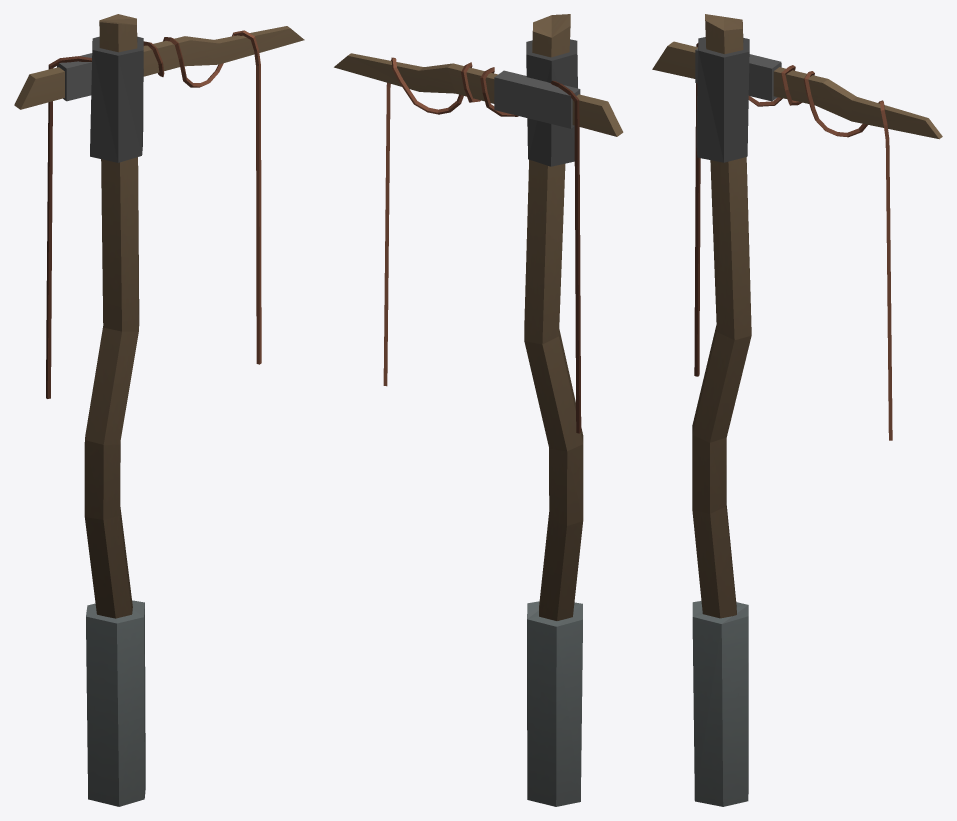
The model's file is ZLPC_Prop_D_02.FBX.
3 renders of one model, left to right at view 1: azimuth 30°, elevation 25°; view 2: azimuth 150°, elevation 25°; view 3: azimuth 330°, elevation 25°, orthographic.
Visible parts, largest first — view 1: ZLPC_Prop_D_02; view 2: ZLPC_Prop_D_02; view 3: ZLPC_Prop_D_02.
Boxes of the visible parts, x1,y1,x2,y2 form: ZLPC_Prop_D_02: (14,14,304,806); ZLPC_Prop_D_02: (334,14,623,806); ZLPC_Prop_D_02: (652,14,942,806).
Bounding box in the file's own units: 151 × 393 × 35.44.
Materials: 1 (1 with a texture image).
